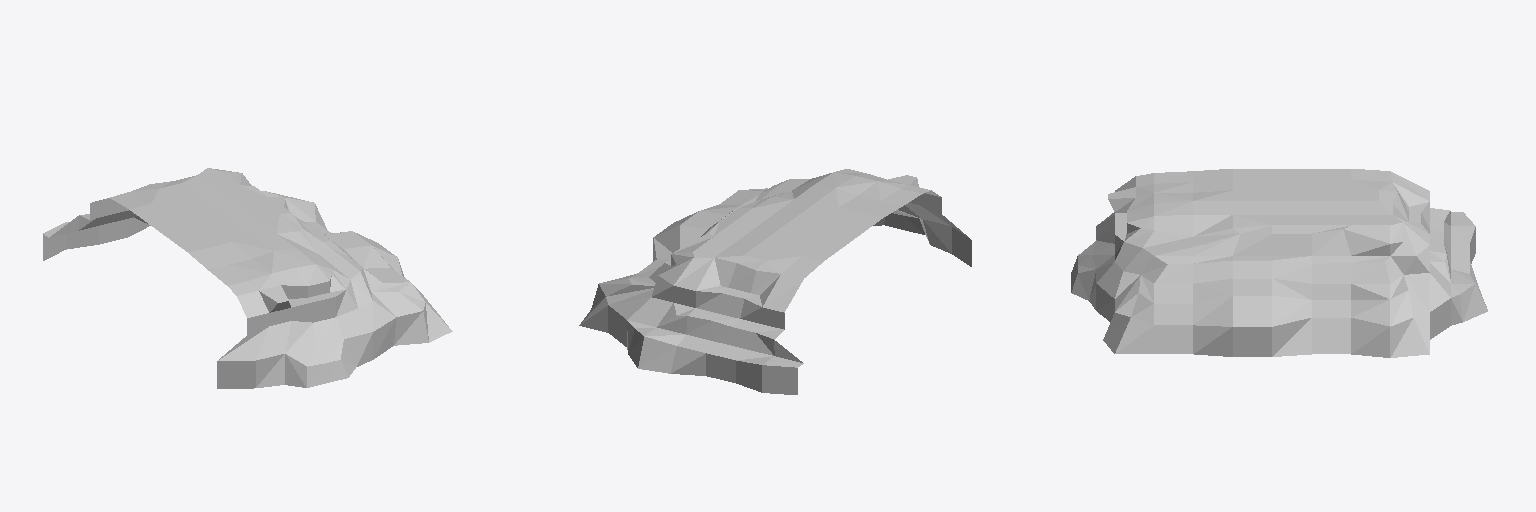
Rendered from mLv1Mountain11.obj.
3 renders of one model, left to right at view 1: azimuth 30°, elevation 25°; view 2: azimuth 150°, elevation 25°; view 3: azimuth 270°, elevation 25°, orthographic.
Visible parts, largest first — view 1: mMountain09; view 2: mMountain09; view 3: mMountain09.
Boxes of the visible parts, <box> form: mMountain09: <box>43,168,452,388</box>; mMountain09: <box>579,169,971,394</box>; mMountain09: <box>1071,169,1487,357</box>.
Bounding box in the file's own units: 39.22 × 13.19 × 58.24.